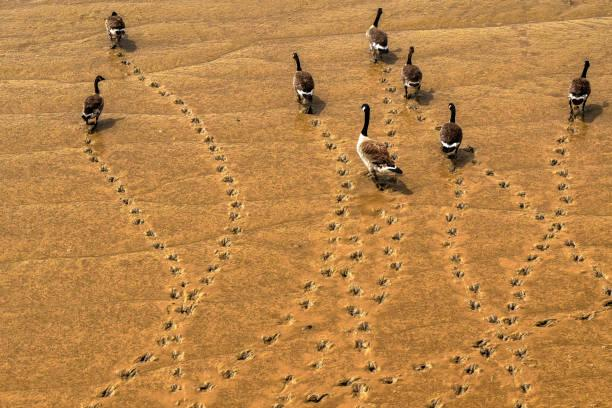Canadian-Goose: (351, 103, 404, 192), (287, 51, 318, 111), (398, 45, 427, 105), (564, 60, 594, 118), (437, 101, 462, 164), (361, 5, 390, 58), (81, 73, 106, 130), (100, 7, 129, 51)
